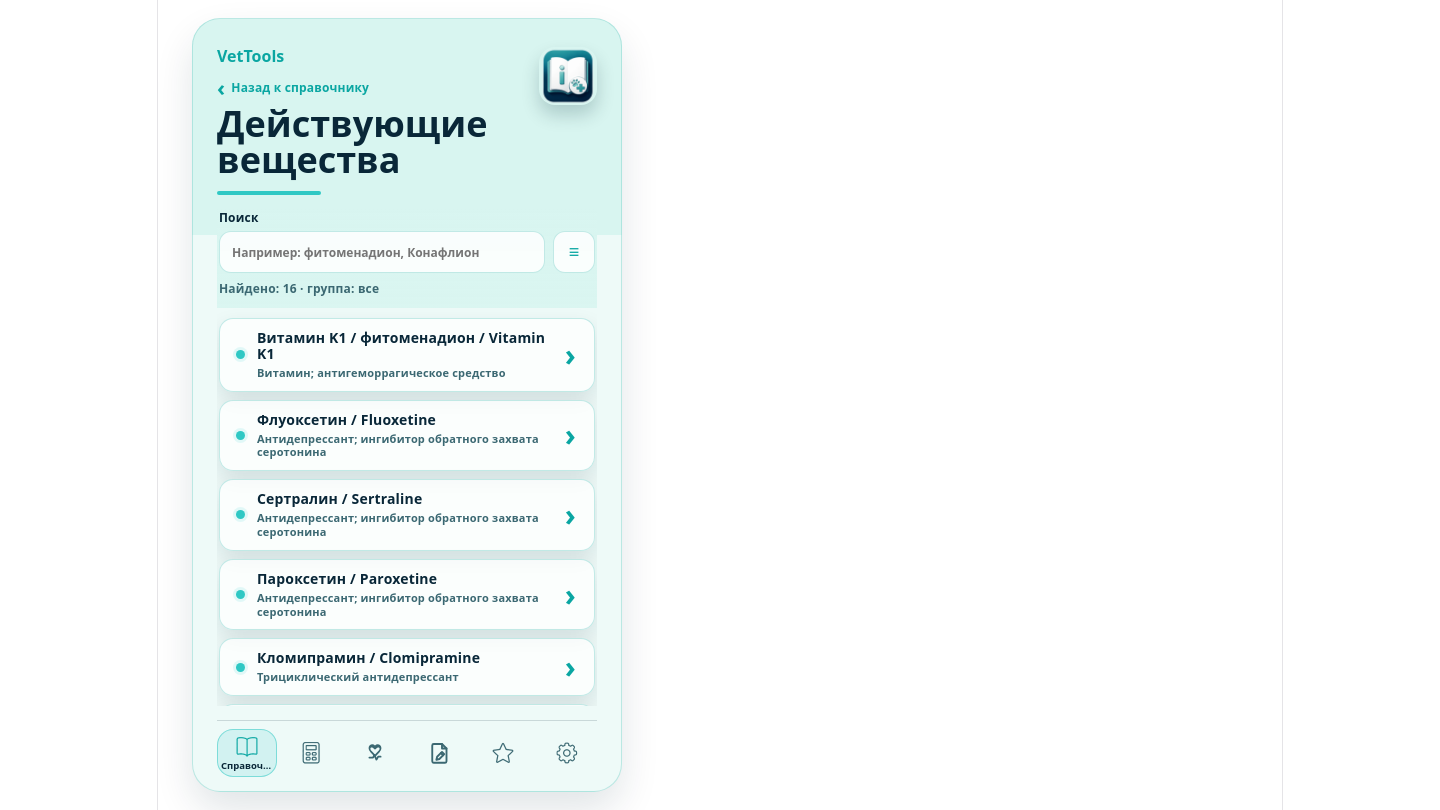
Test case: ActiveSubstancesReferencePage › filters by active substance name
Type "фитоменадион" into the search field named "Поиск по действующему веществу" at {"x": 382, "y": 252}, box top-left (219, 231), bottom-right (545, 273)
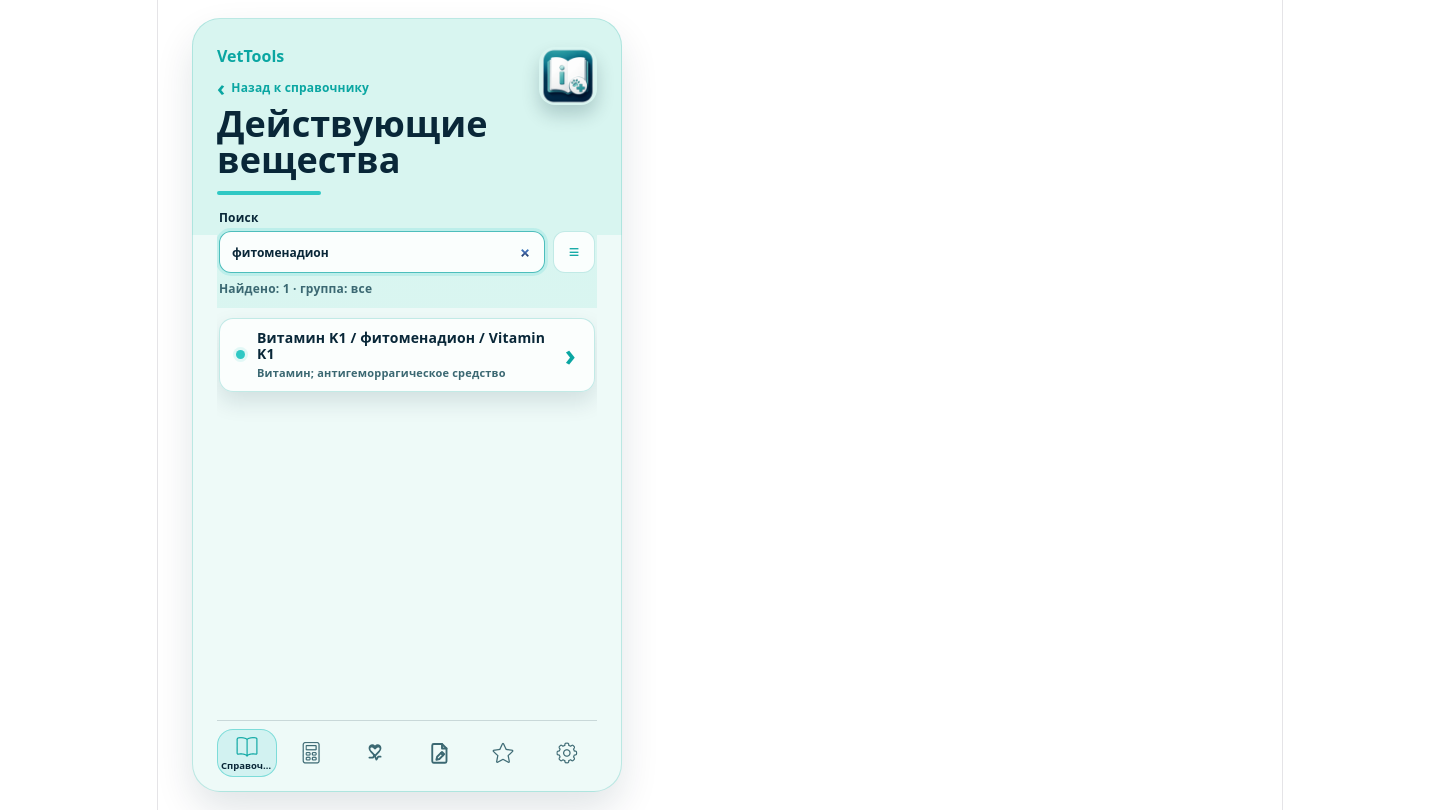
expect the text "Витамин K1 / фитоменадион / Vitamin K1" is shown: met, box top-left (257, 330), bottom-right (553, 362)
expect the text "Найдено: 1 · группа: все" is shown: met, box top-left (219, 280), bottom-right (372, 297)
Replace the text in the search field named "Поиск по действующему веществу" with "Конафлион" at {"x": 382, "y": 252}, box top-left (219, 231), bottom-right (545, 273)
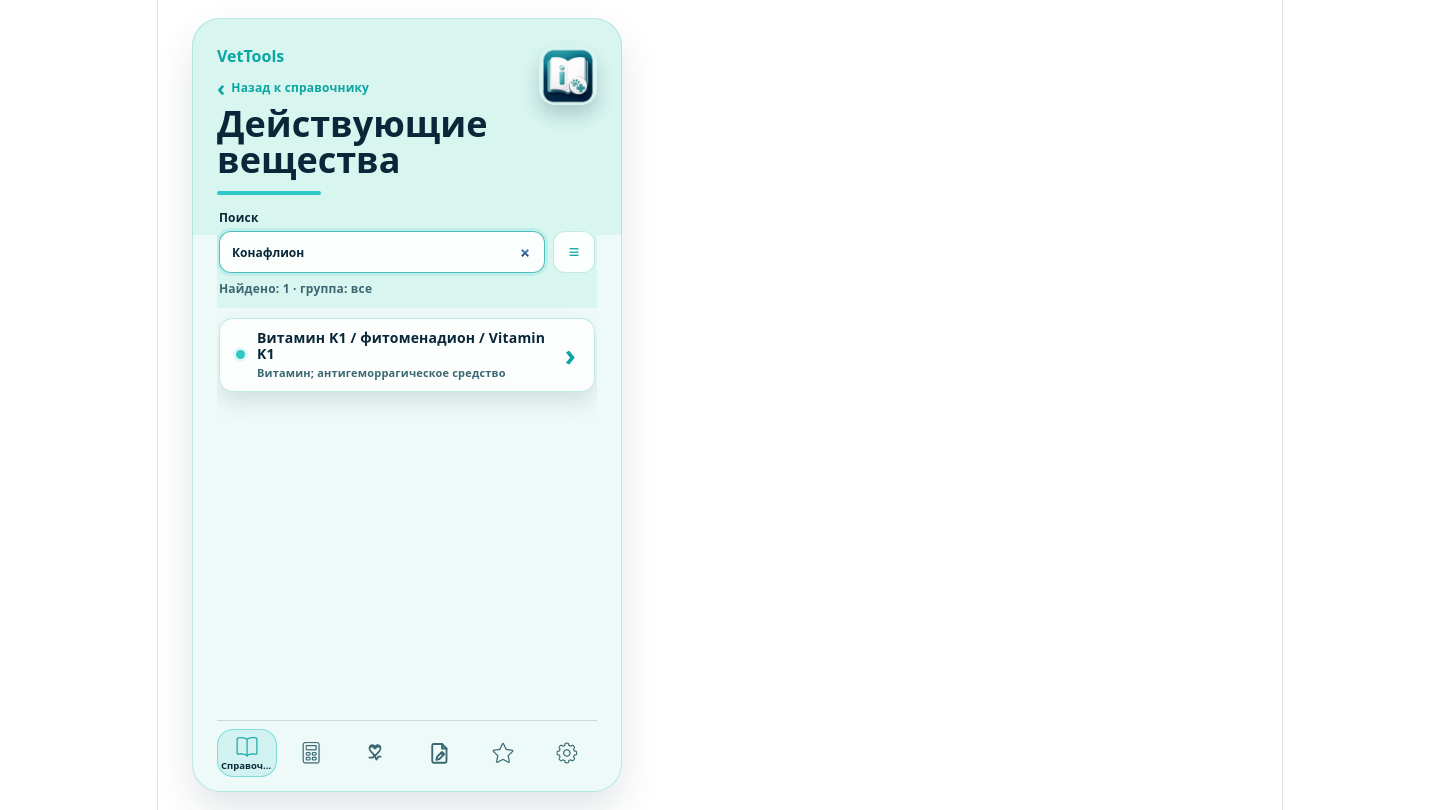
expect the text "Найдено: 1 · группа: все" is shown: met, box top-left (219, 280), bottom-right (372, 297)
expect the text "Витамин K1 / фитоменадион / Vitamin K1" is shown: met, box top-left (257, 330), bottom-right (553, 362)
Replace the text in the search field named "Поиск по действующему веществу" with "несуществующее вещество" at {"x": 382, "y": 252}, box top-left (219, 231), bottom-right (545, 273)
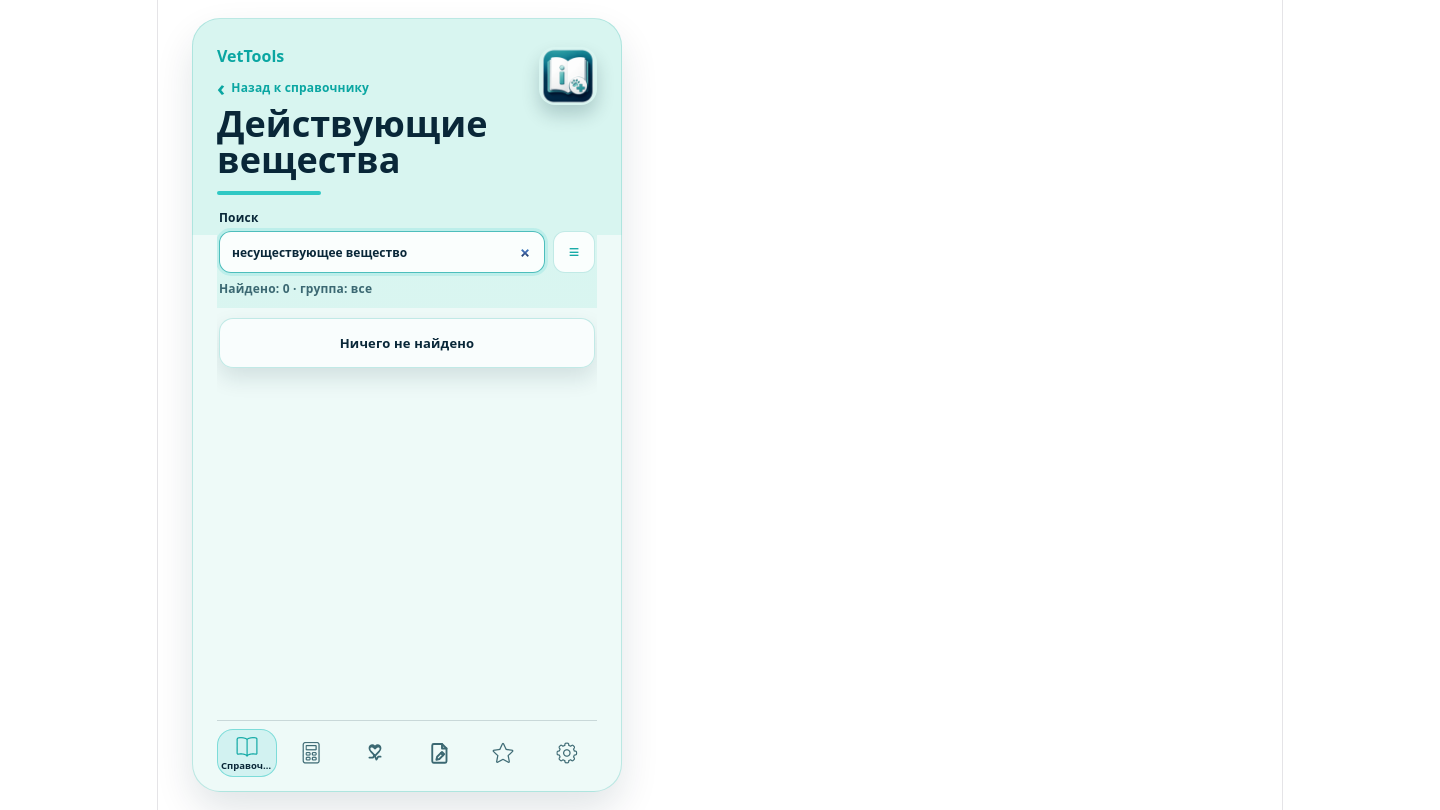
expect the text "Найдено: 0 · группа: все" is shown: met, box top-left (219, 280), bottom-right (372, 297)
expect the text "Ничего не найдено" is shown: met, box top-left (219, 318), bottom-right (595, 368)
